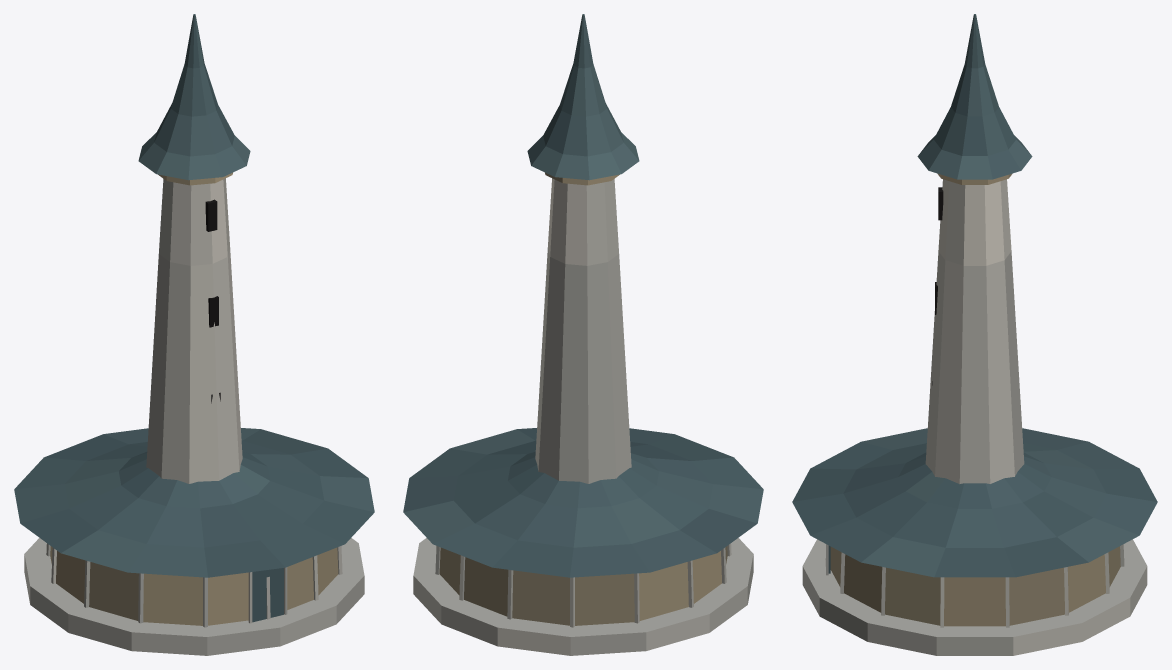
The model's file is elf_seat.glb.
The picture shows the model from 3 angles, left to right: view 1: azimuth 30°, elevation 25°; view 2: azimuth 150°, elevation 25°; view 3: azimuth 270°, elevation 25°; orthographic projection.
Parts seen in each view (by area): view 1: elf_seat; view 2: elf_seat; view 3: elf_seat.
Part boxes in pixels (<box>): elf_seat: <box>14,14,374,655</box>; elf_seat: <box>403,14,763,655</box>; elf_seat: <box>792,14,1157,655</box>.
Bounding box in the file's own units: 13.65 × 24.1 × 14.
Materials: 1 (1 with a texture image).
